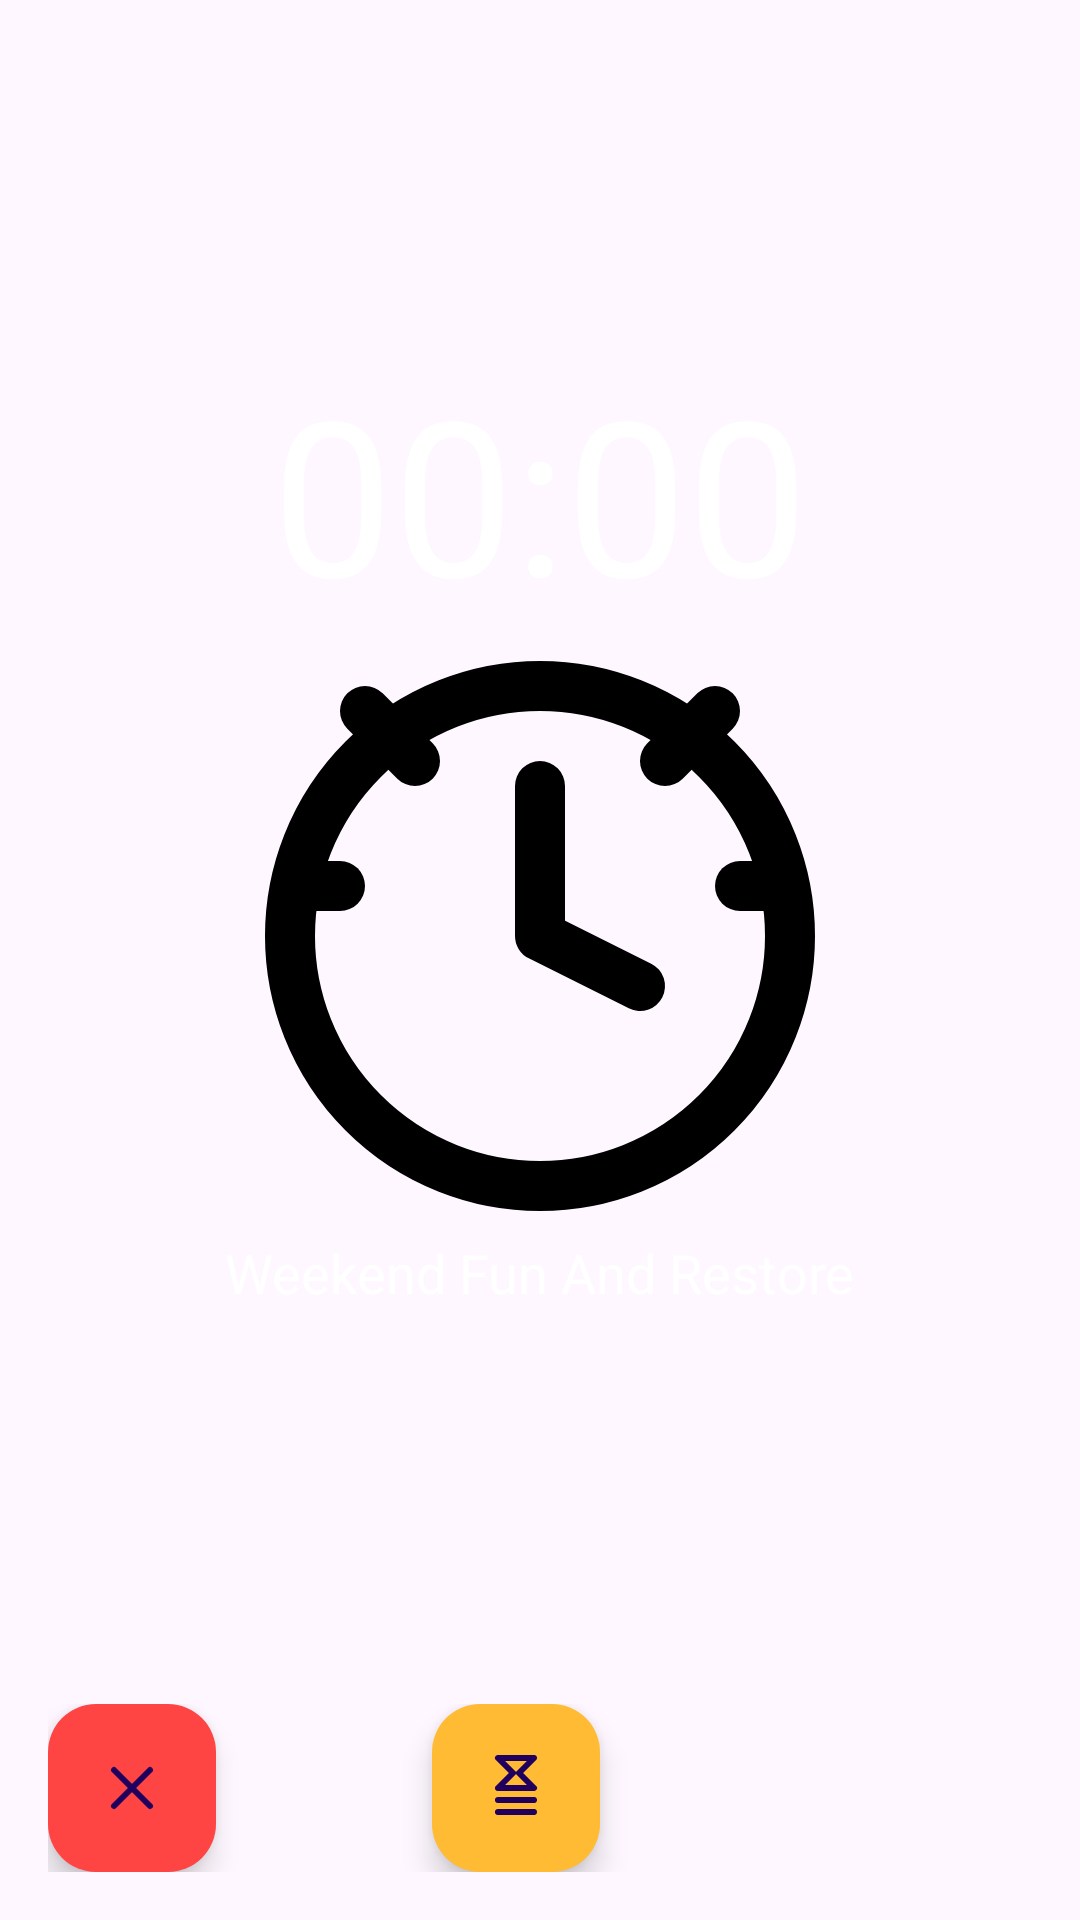

Screen size 1080w x 1920h. Icon name, then its center in pixels as (x=x, y=y):
close: (x=132, y=1788)
snooze: (x=516, y=1788)
